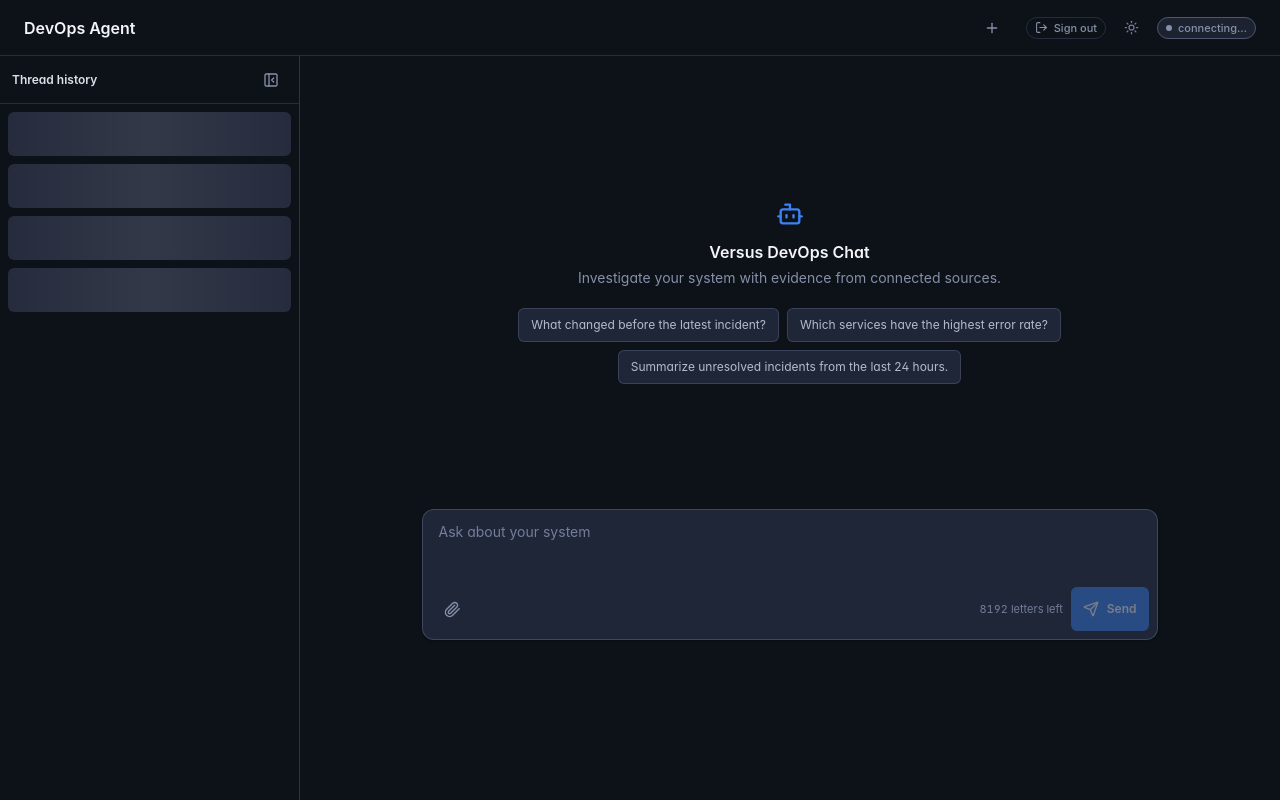
ChatPage › creates, streams, refetches, and renders the final assistant once
This screenshot has width=1280, height=800.
Type "What changed?" into the text box named "Message".
click(790, 546); type("What changed?")  # box x1=422 y1=510 x2=1156 y2=582
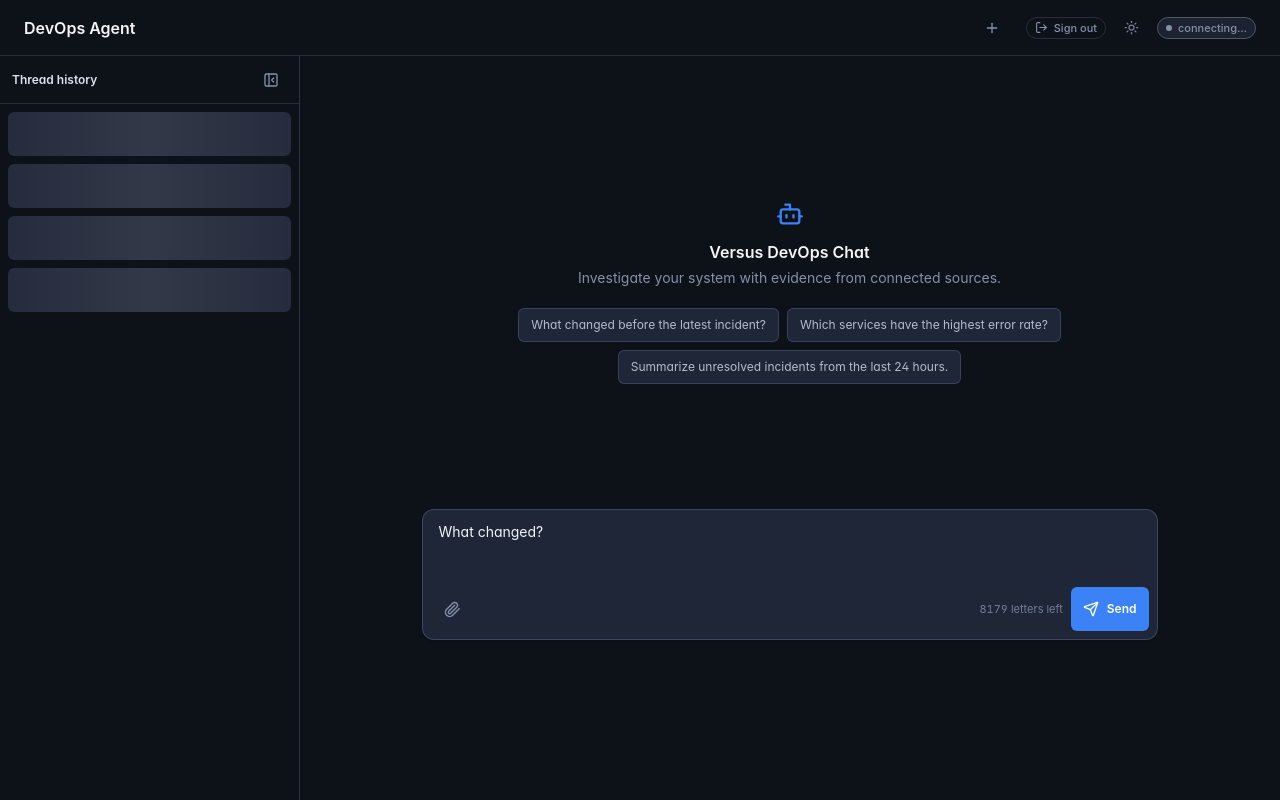
Click the button "Send".
click(1110, 609)  # box x1=1071 y1=587 x2=1148 y2=631
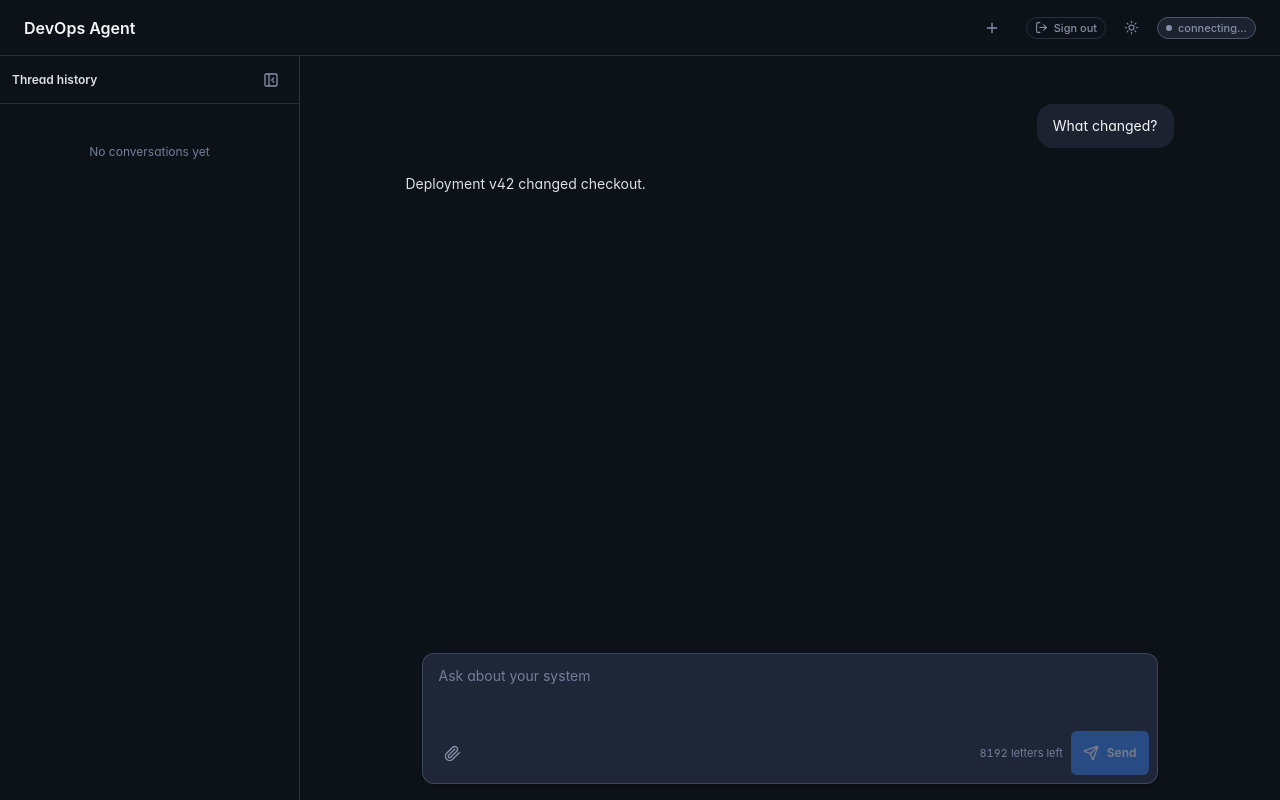
Result: the text "Deployment v42 changed checkout." is shown once at x1=406 y1=175 x2=646 y2=192
